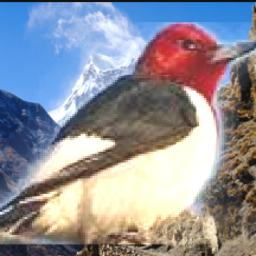Woodpecker: (0, 23, 256, 245)
